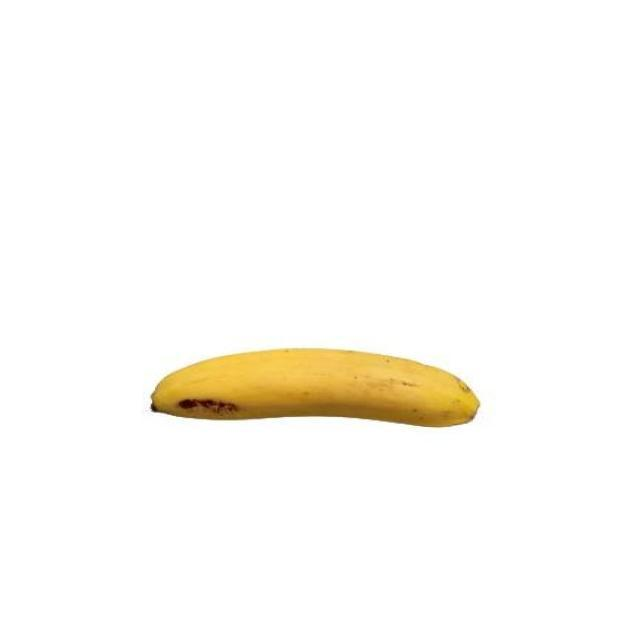Banana: (150, 344, 483, 431)
